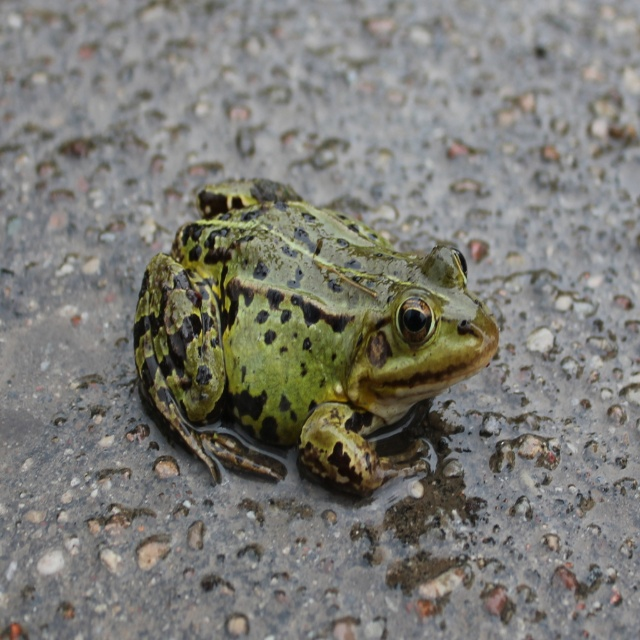Frog: (134, 174, 501, 489)
